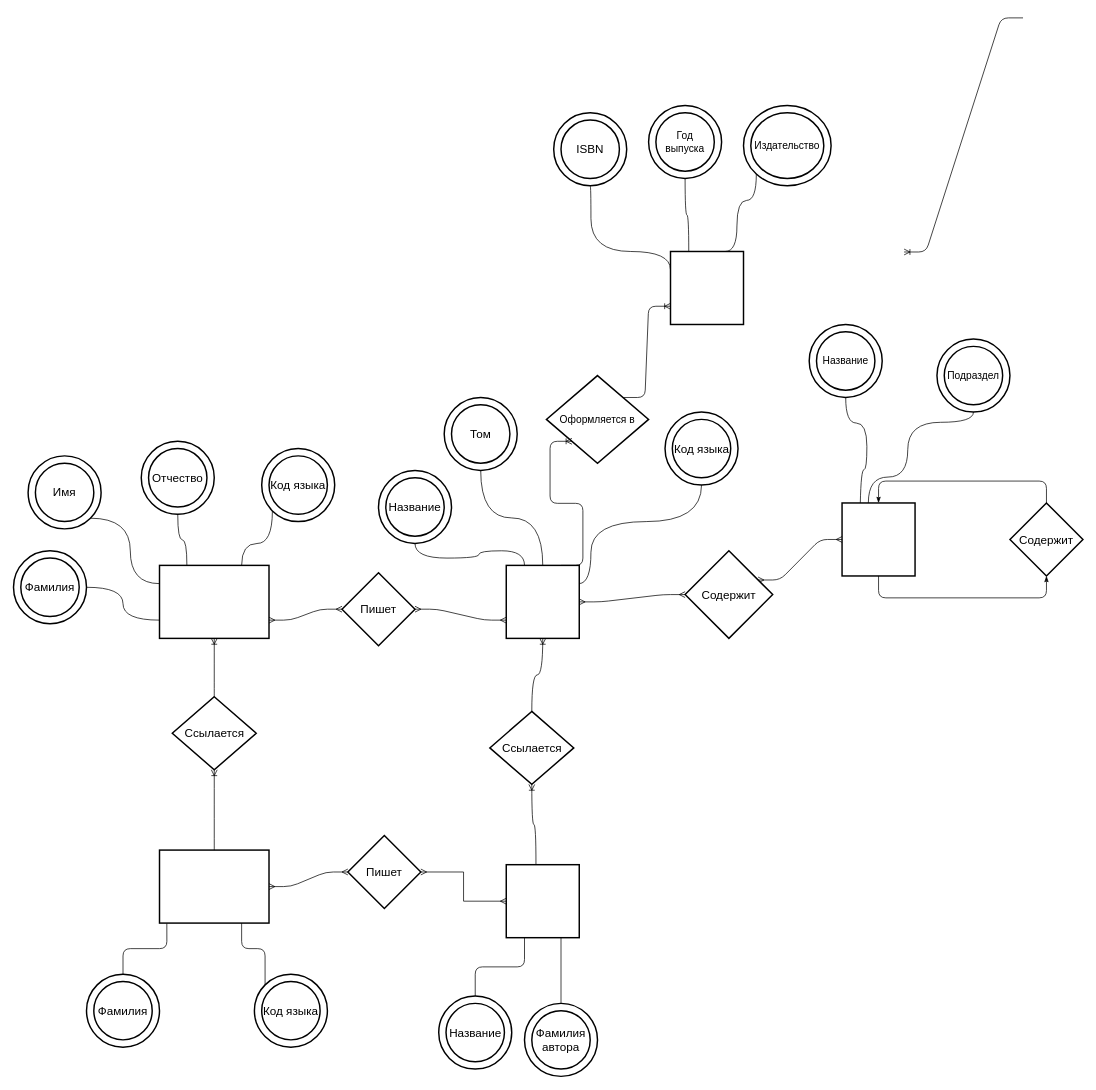
Some shapes in this 1096 by 1090 pixel diagram are drawn without their labels. Here are the shapes that lost their labels. From the top down, the centre of each, then its label:
At [706,287]: "Публикация".
At [878,539]: "Раздел".
At [213,601]: "Автор(На языке книги)".
At [542,601]: "Книга".
At [213,886]: "Автор(Оригинал)".
At [542,901]: "Книга (на языке оригинала)".
